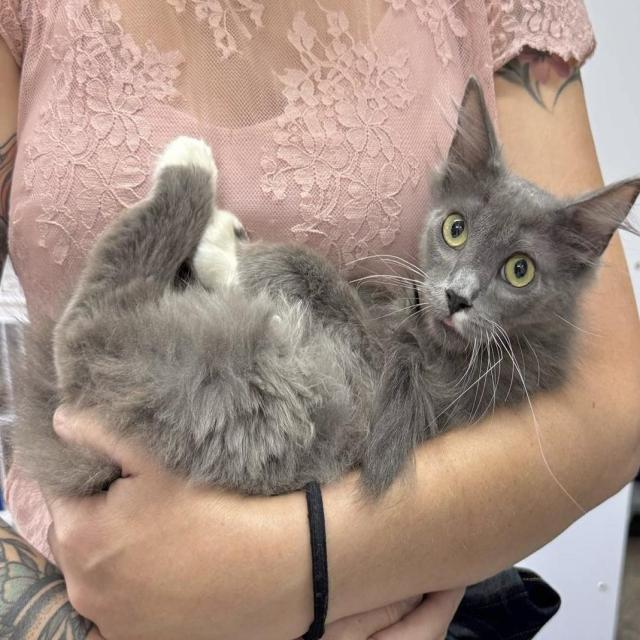maine_coon_cat: (380, 74, 640, 406)
